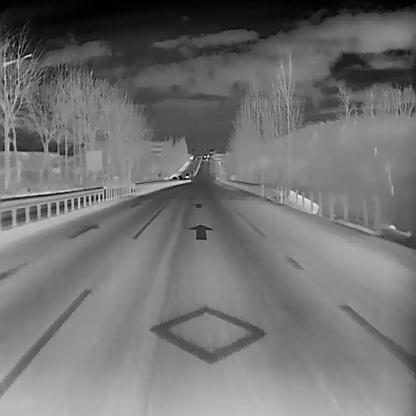car: (184, 171, 188, 179)
